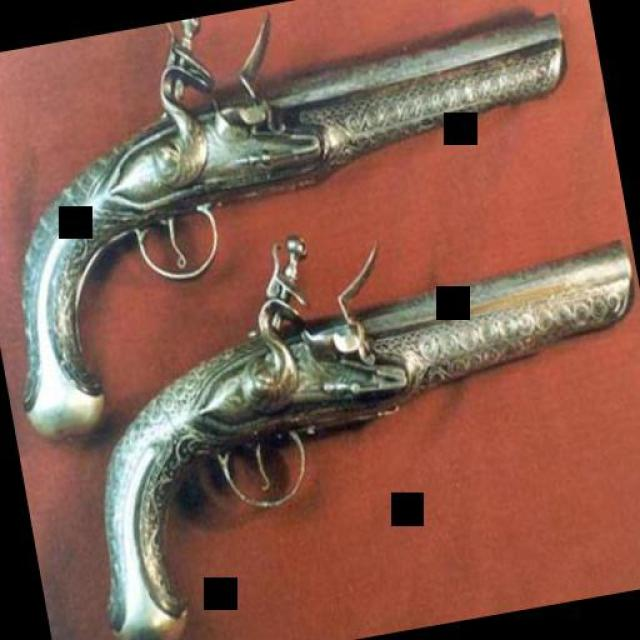gun: (35, 132, 640, 640), (0, 0, 614, 445)
